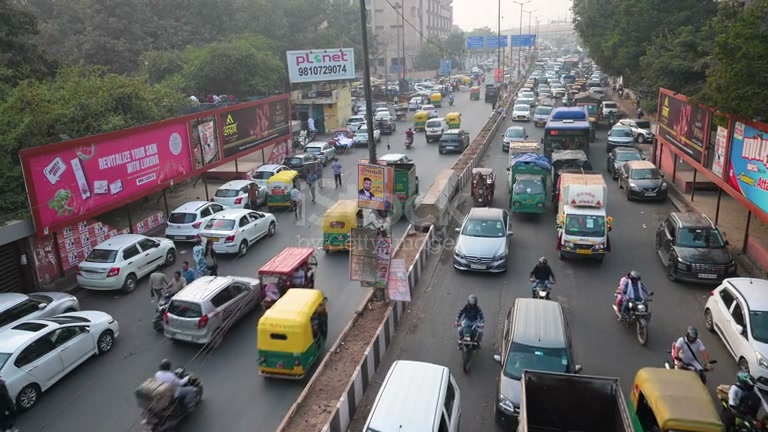car: (0, 309, 120, 416), (492, 297, 581, 429), (161, 274, 263, 348), (361, 359, 462, 432), (255, 287, 330, 382), (518, 371, 636, 431), (703, 277, 768, 381), (629, 366, 727, 431), (76, 232, 177, 293), (654, 210, 736, 284), (452, 207, 515, 274), (192, 208, 278, 257), (256, 246, 318, 309), (0, 290, 81, 329), (165, 199, 227, 242), (508, 156, 552, 214), (620, 160, 668, 203), (213, 180, 263, 208), (606, 146, 645, 180), (282, 153, 322, 182), (302, 140, 337, 164), (606, 125, 637, 152), (438, 130, 469, 155), (501, 126, 527, 151), (329, 129, 355, 152), (424, 117, 447, 142), (531, 105, 554, 127), (512, 99, 534, 121)
motorcycle: (717, 358, 768, 431), (615, 292, 652, 347), (456, 320, 484, 373), (530, 277, 554, 300)
pedestrian: (670, 325, 714, 379), (614, 270, 653, 317), (456, 294, 485, 341), (529, 256, 556, 299), (289, 181, 304, 223), (331, 158, 344, 189)
truck: (555, 171, 611, 263), (357, 153, 419, 225), (256, 245, 318, 309)
